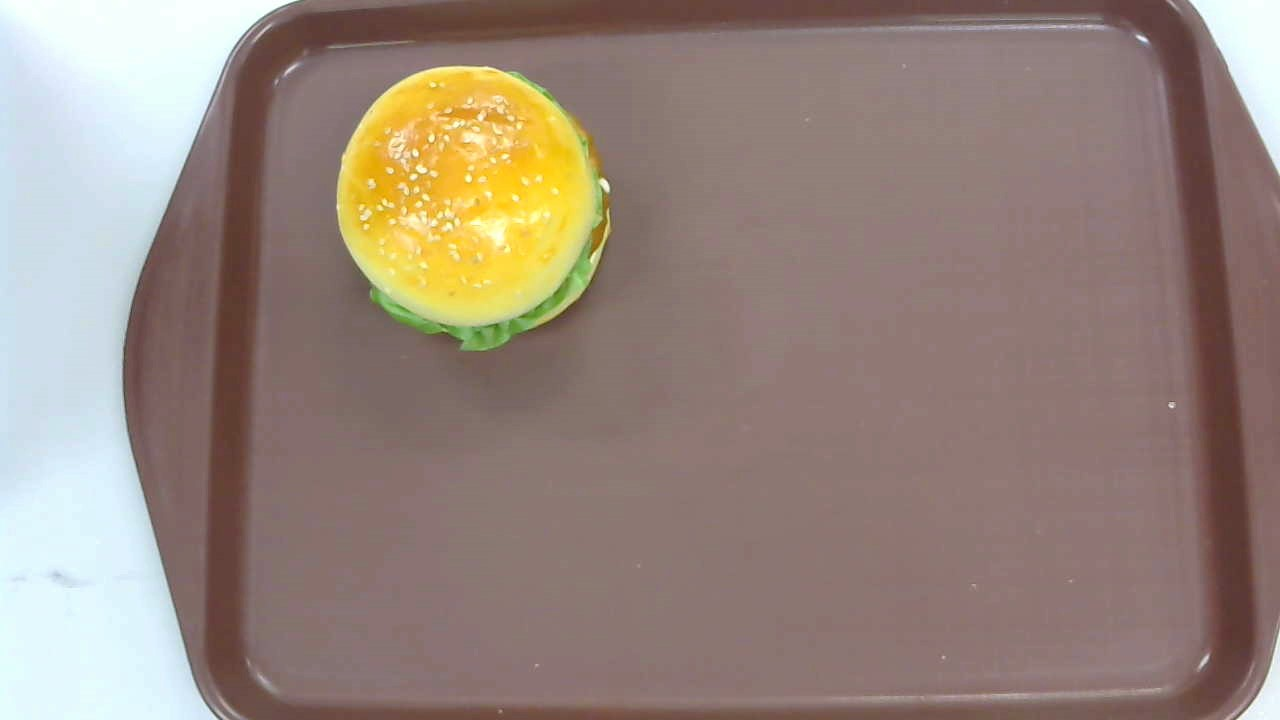hamburger: (335, 65, 612, 352)
